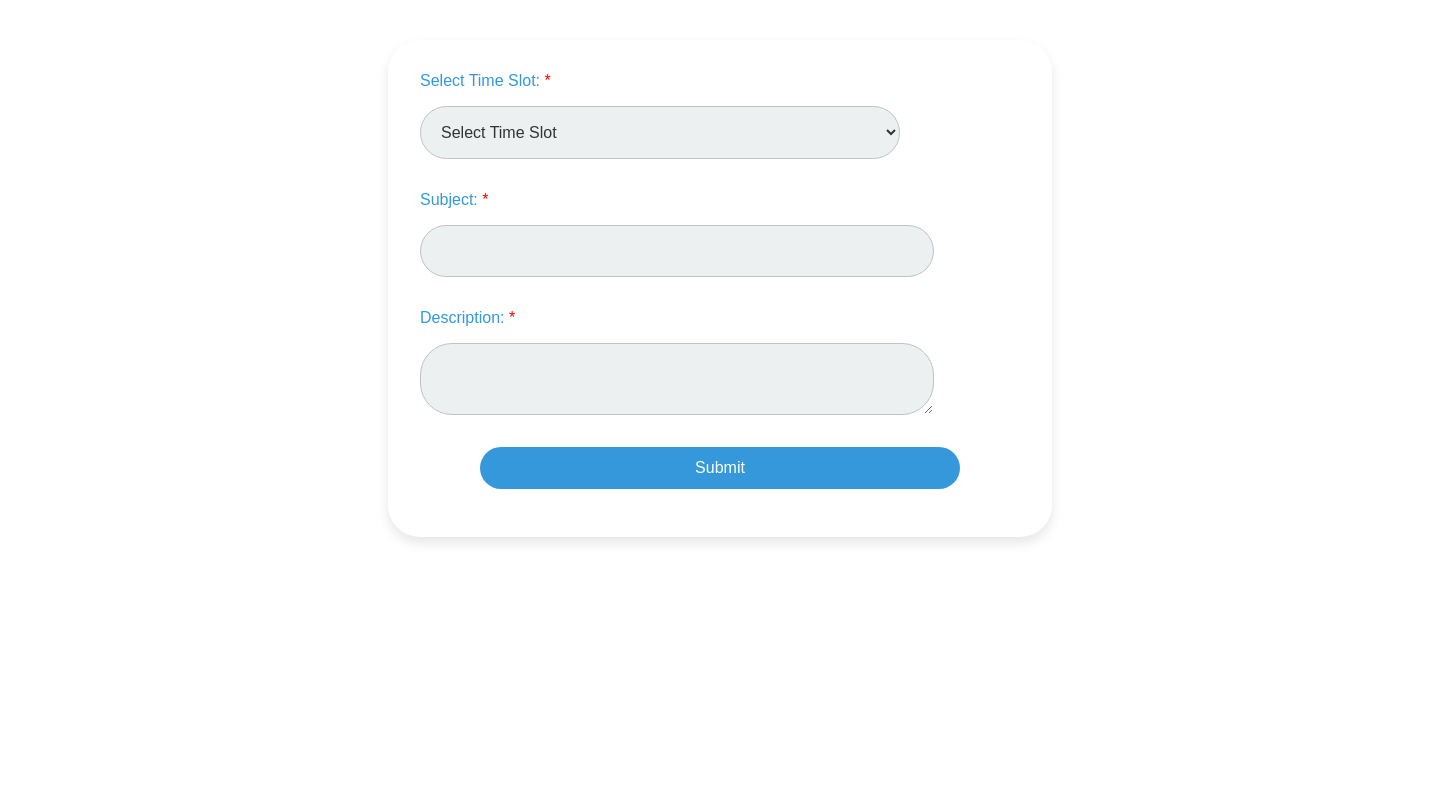
Test case: GuestScheduleCall › submits the form successfully
Select "Morning(9am-12pm)" in the dropdown labelled "Select Time Slot: *": {"x": 660, "y": 132} [420, 106, 900, 159]
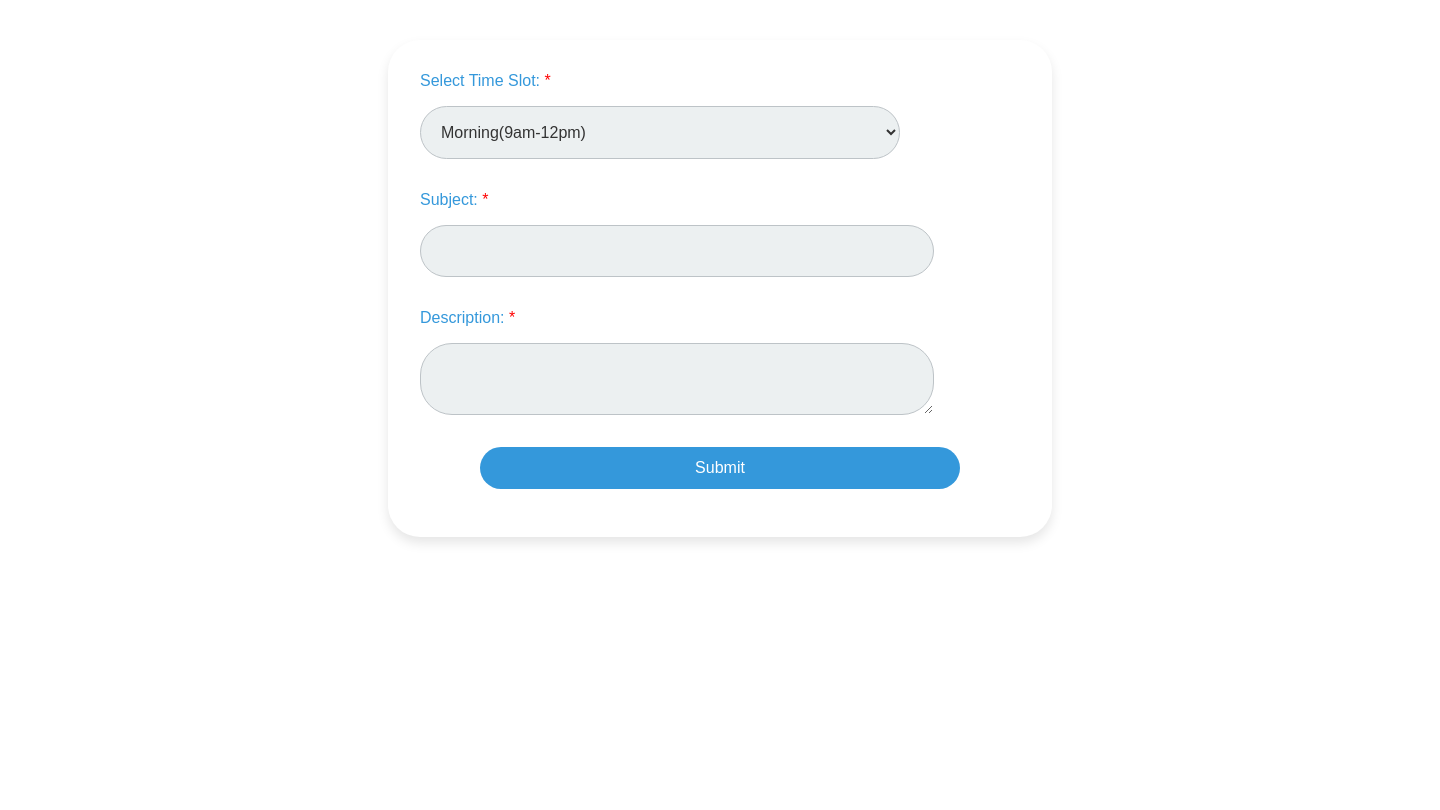
In the field labelled "Subject: *": {"x": 677, "y": 251} [420, 225, 934, 277], type "Test Subject"
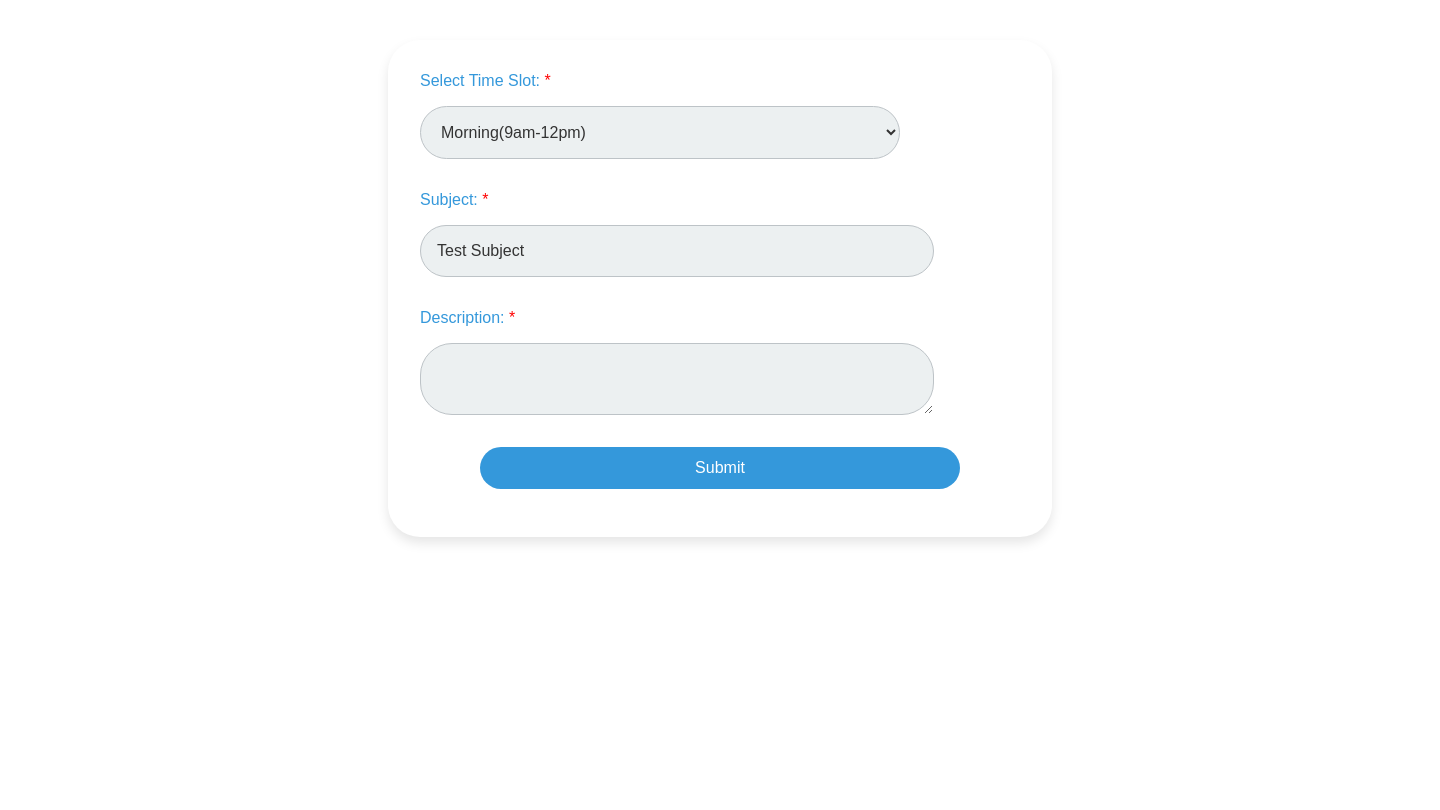
In the text box labelled "Description: *": {"x": 677, "y": 379} [420, 343, 934, 415], type "Test Description"
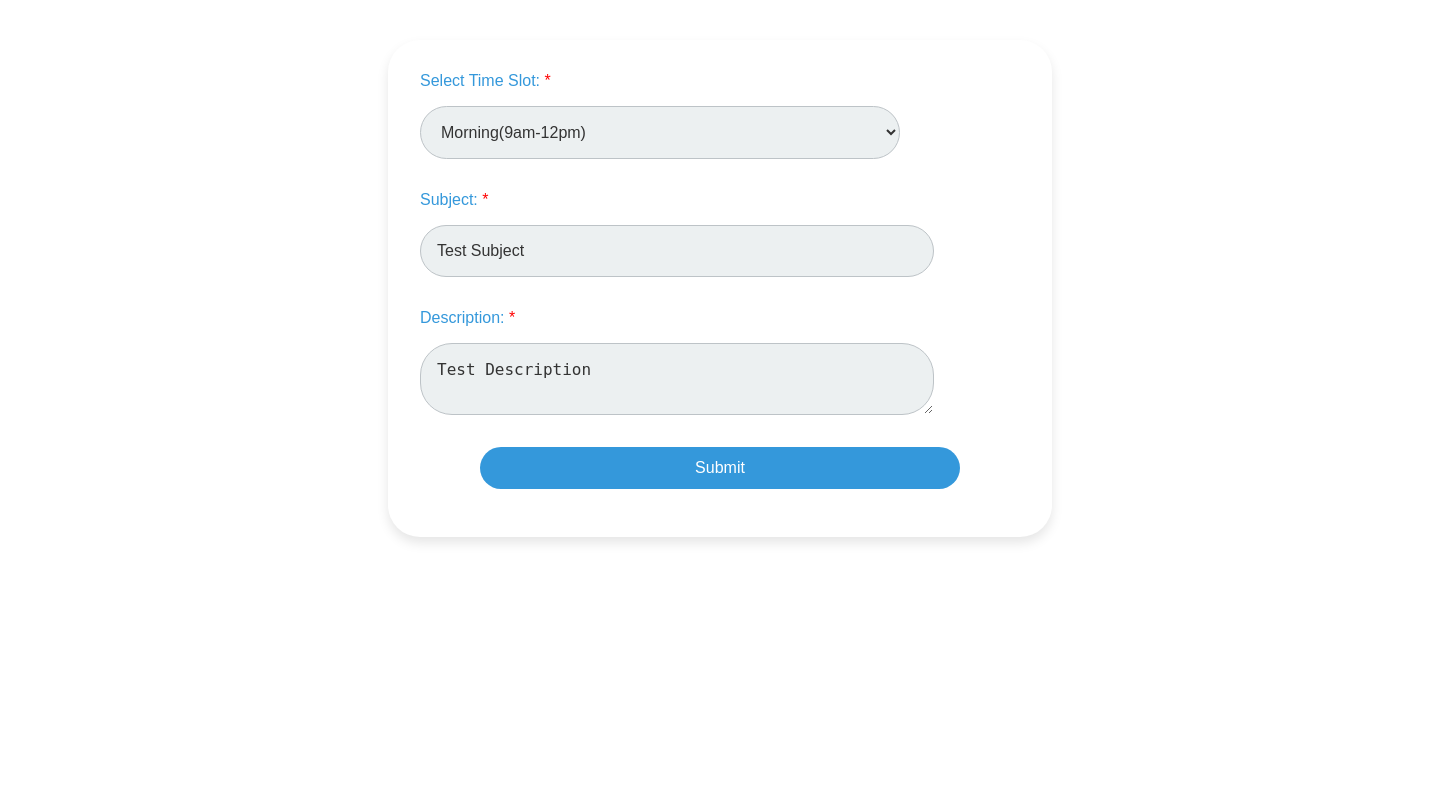
Click the button "Submit": {"x": 720, "y": 468} [480, 447, 960, 489]
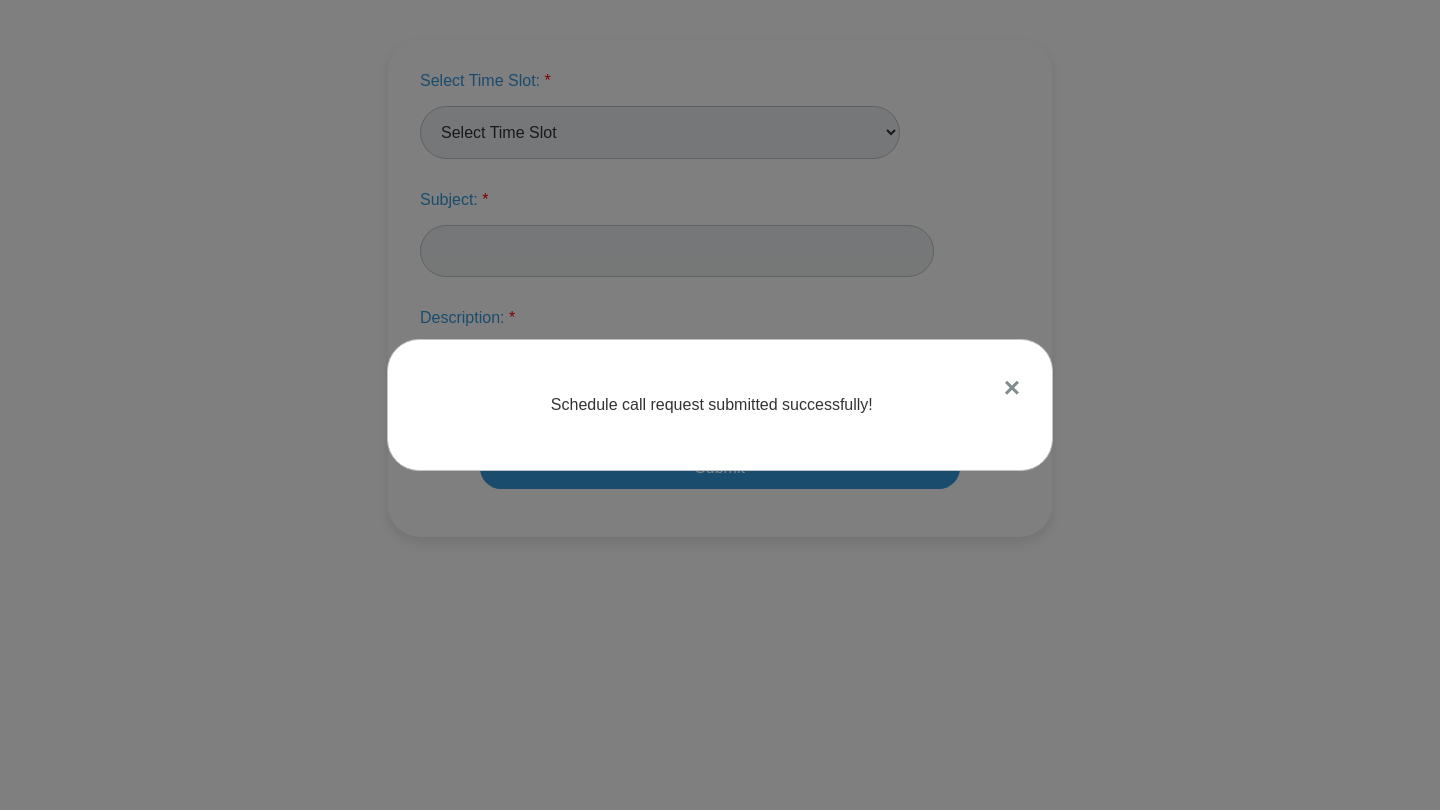
Check: the text "Schedule call request submitted successfully!" is shown, box [551, 396, 873, 413]
